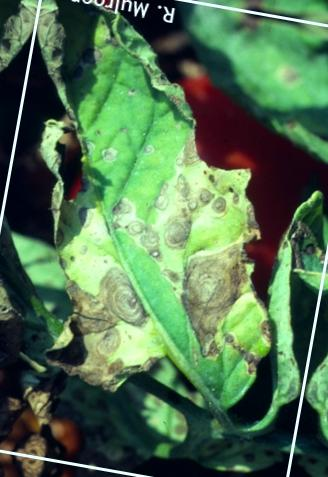Tomato Early blight leaf: (0, 0, 313, 447)
